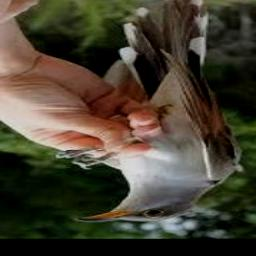Cuckoo: (61, 0, 242, 223)
